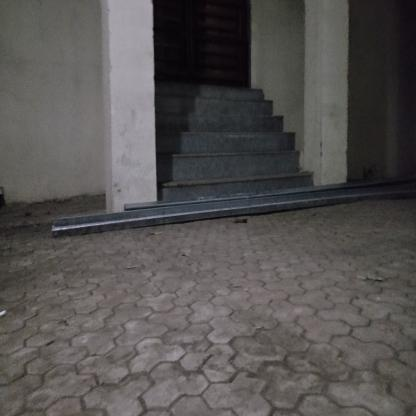stairs: (161, 93, 273, 196)
